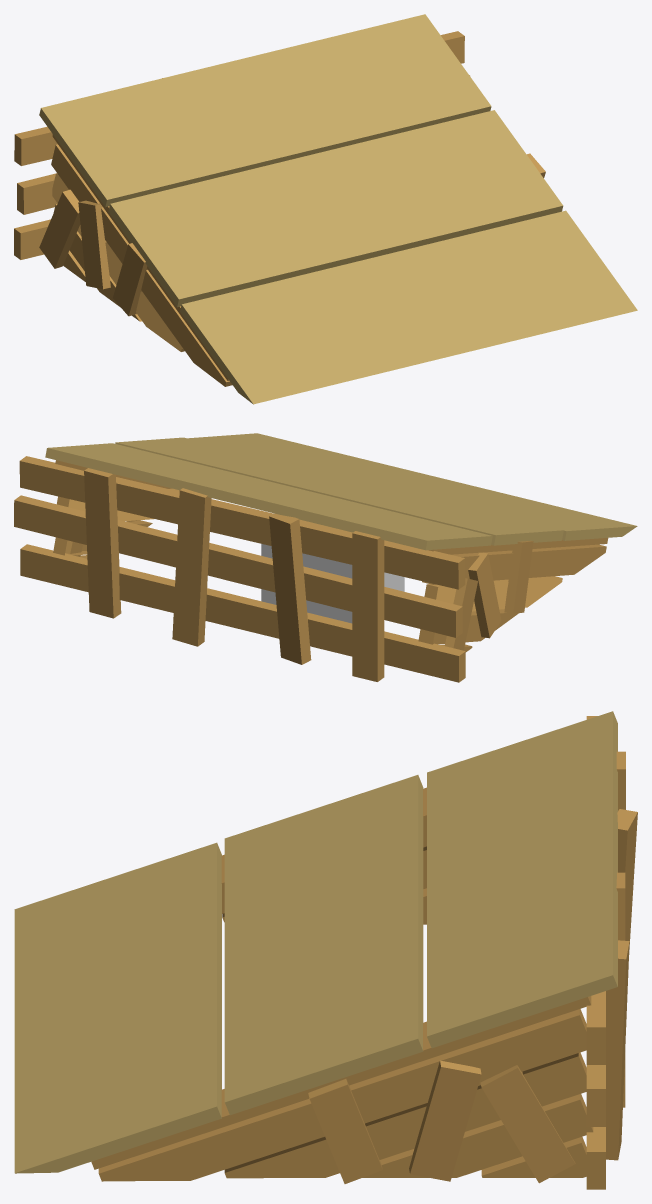
File: ramp.glb
3 views of the same model, one above another, from view 1: azimuth 30°, elevation 25°; view 2: azimuth 150°, elevation 25°; view 3: azimuth 270°, elevation 25° (orthographic). The views are drawn at different scales.
Parts seen in each view (by area): view 1: Mid-Plank, Bot-Plank, Planks, LeftSide, Cube.023, Side-support-left, Cube.005, Cube.015, Cube.024, Cube.004, BackSide, TopSupport (+1 smaller); view 2: Planks, Cube.004, BackSide, Cube.005, Mid-Plank, Bot-Plank, Cube.006, Cube.008, Cube.009, Cube.007, LeftSide, Parent (+8 smaller); view 3: Bot-Plank, Mid-Plank, Planks, RightSide, Cube.011, Cube.020, Cube.026, Side-support-right, Cube.012, Cube.021, Cube.009, Cube.007 (+5 smaller).
Boxes of the visible parts, box(x1,y1,x2,y2) form: Mid-Plank: box(108, 110, 563, 307); Bot-Plank: box(180, 210, 637, 404); Planks: box(39, 14, 491, 207); LeftSide: box(51, 144, 232, 386); Cube.023: box(78, 200, 110, 289); Side-support-left: box(39, 189, 80, 268); Cube.005: box(14, 31, 464, 165); Cube.015: box(52, 173, 184, 351); Cube.024: box(113, 243, 147, 316); Cube.004: box(17, 75, 469, 214); BackSide: box(14, 219, 50, 259); TopSupport: box(52, 134, 228, 380); Planks: box(45, 443, 492, 550); Cube.004: box(14, 495, 462, 637); BackSide: box(20, 544, 465, 682); Cube.005: box(19, 456, 465, 589); Mid-Plank: box(115, 437, 563, 545); Bot-Plank: box(188, 433, 637, 540); Cube.006: box(172, 488, 211, 646); Cube.008: box(352, 531, 384, 681); Cube.009: box(84, 468, 121, 618); Cube.007: box(269, 513, 311, 664); LeftSide: box(422, 544, 606, 584); Parent: box(261, 513, 404, 623); Bot-Plank: box(14, 842, 221, 1173); Mid-Plank: box(224, 775, 423, 1115); Planks: box(427, 711, 617, 1048); RightSide: box(98, 1009, 586, 1181); Cube.011: box(224, 1052, 586, 1178); Cube.020: box(409, 1060, 481, 1181); Cube.026: box(91, 996, 591, 1169); Side-support-right: box(480, 1065, 575, 1183); Cube.012: box(362, 1094, 593, 1177); Cube.021: box(308, 1079, 382, 1183); Cube.009: box(606, 940, 629, 1160); Cube.007: box(617, 809, 637, 954).
Bounding box in the file's own units: 9.78 × 3.89 × 8.35.
